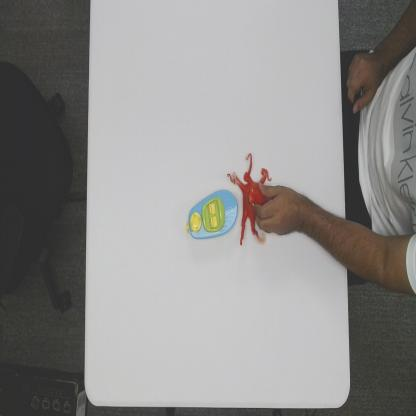Arm: (300, 190, 416, 299)
Boat: (184, 188, 239, 242)
Hand: (253, 179, 302, 238)
Octopus: (227, 151, 271, 247)
